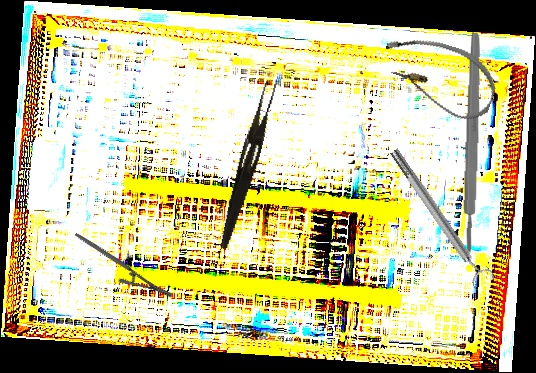Cannula: (372, 27, 504, 126)
Dressing Forceps: (217, 79, 278, 252)
Fixation Ring: (383, 142, 497, 293)
Needle Holder: (74, 209, 175, 321)
Scalpel Handle: (461, 31, 483, 254)
